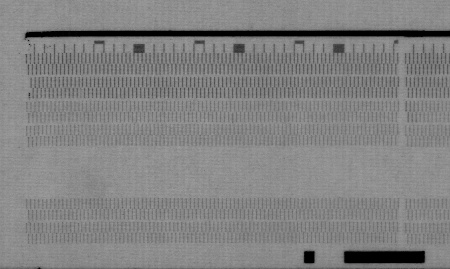Broken hole: (24, 146, 450, 199)
Oblique printing: (25, 88, 36, 101)
